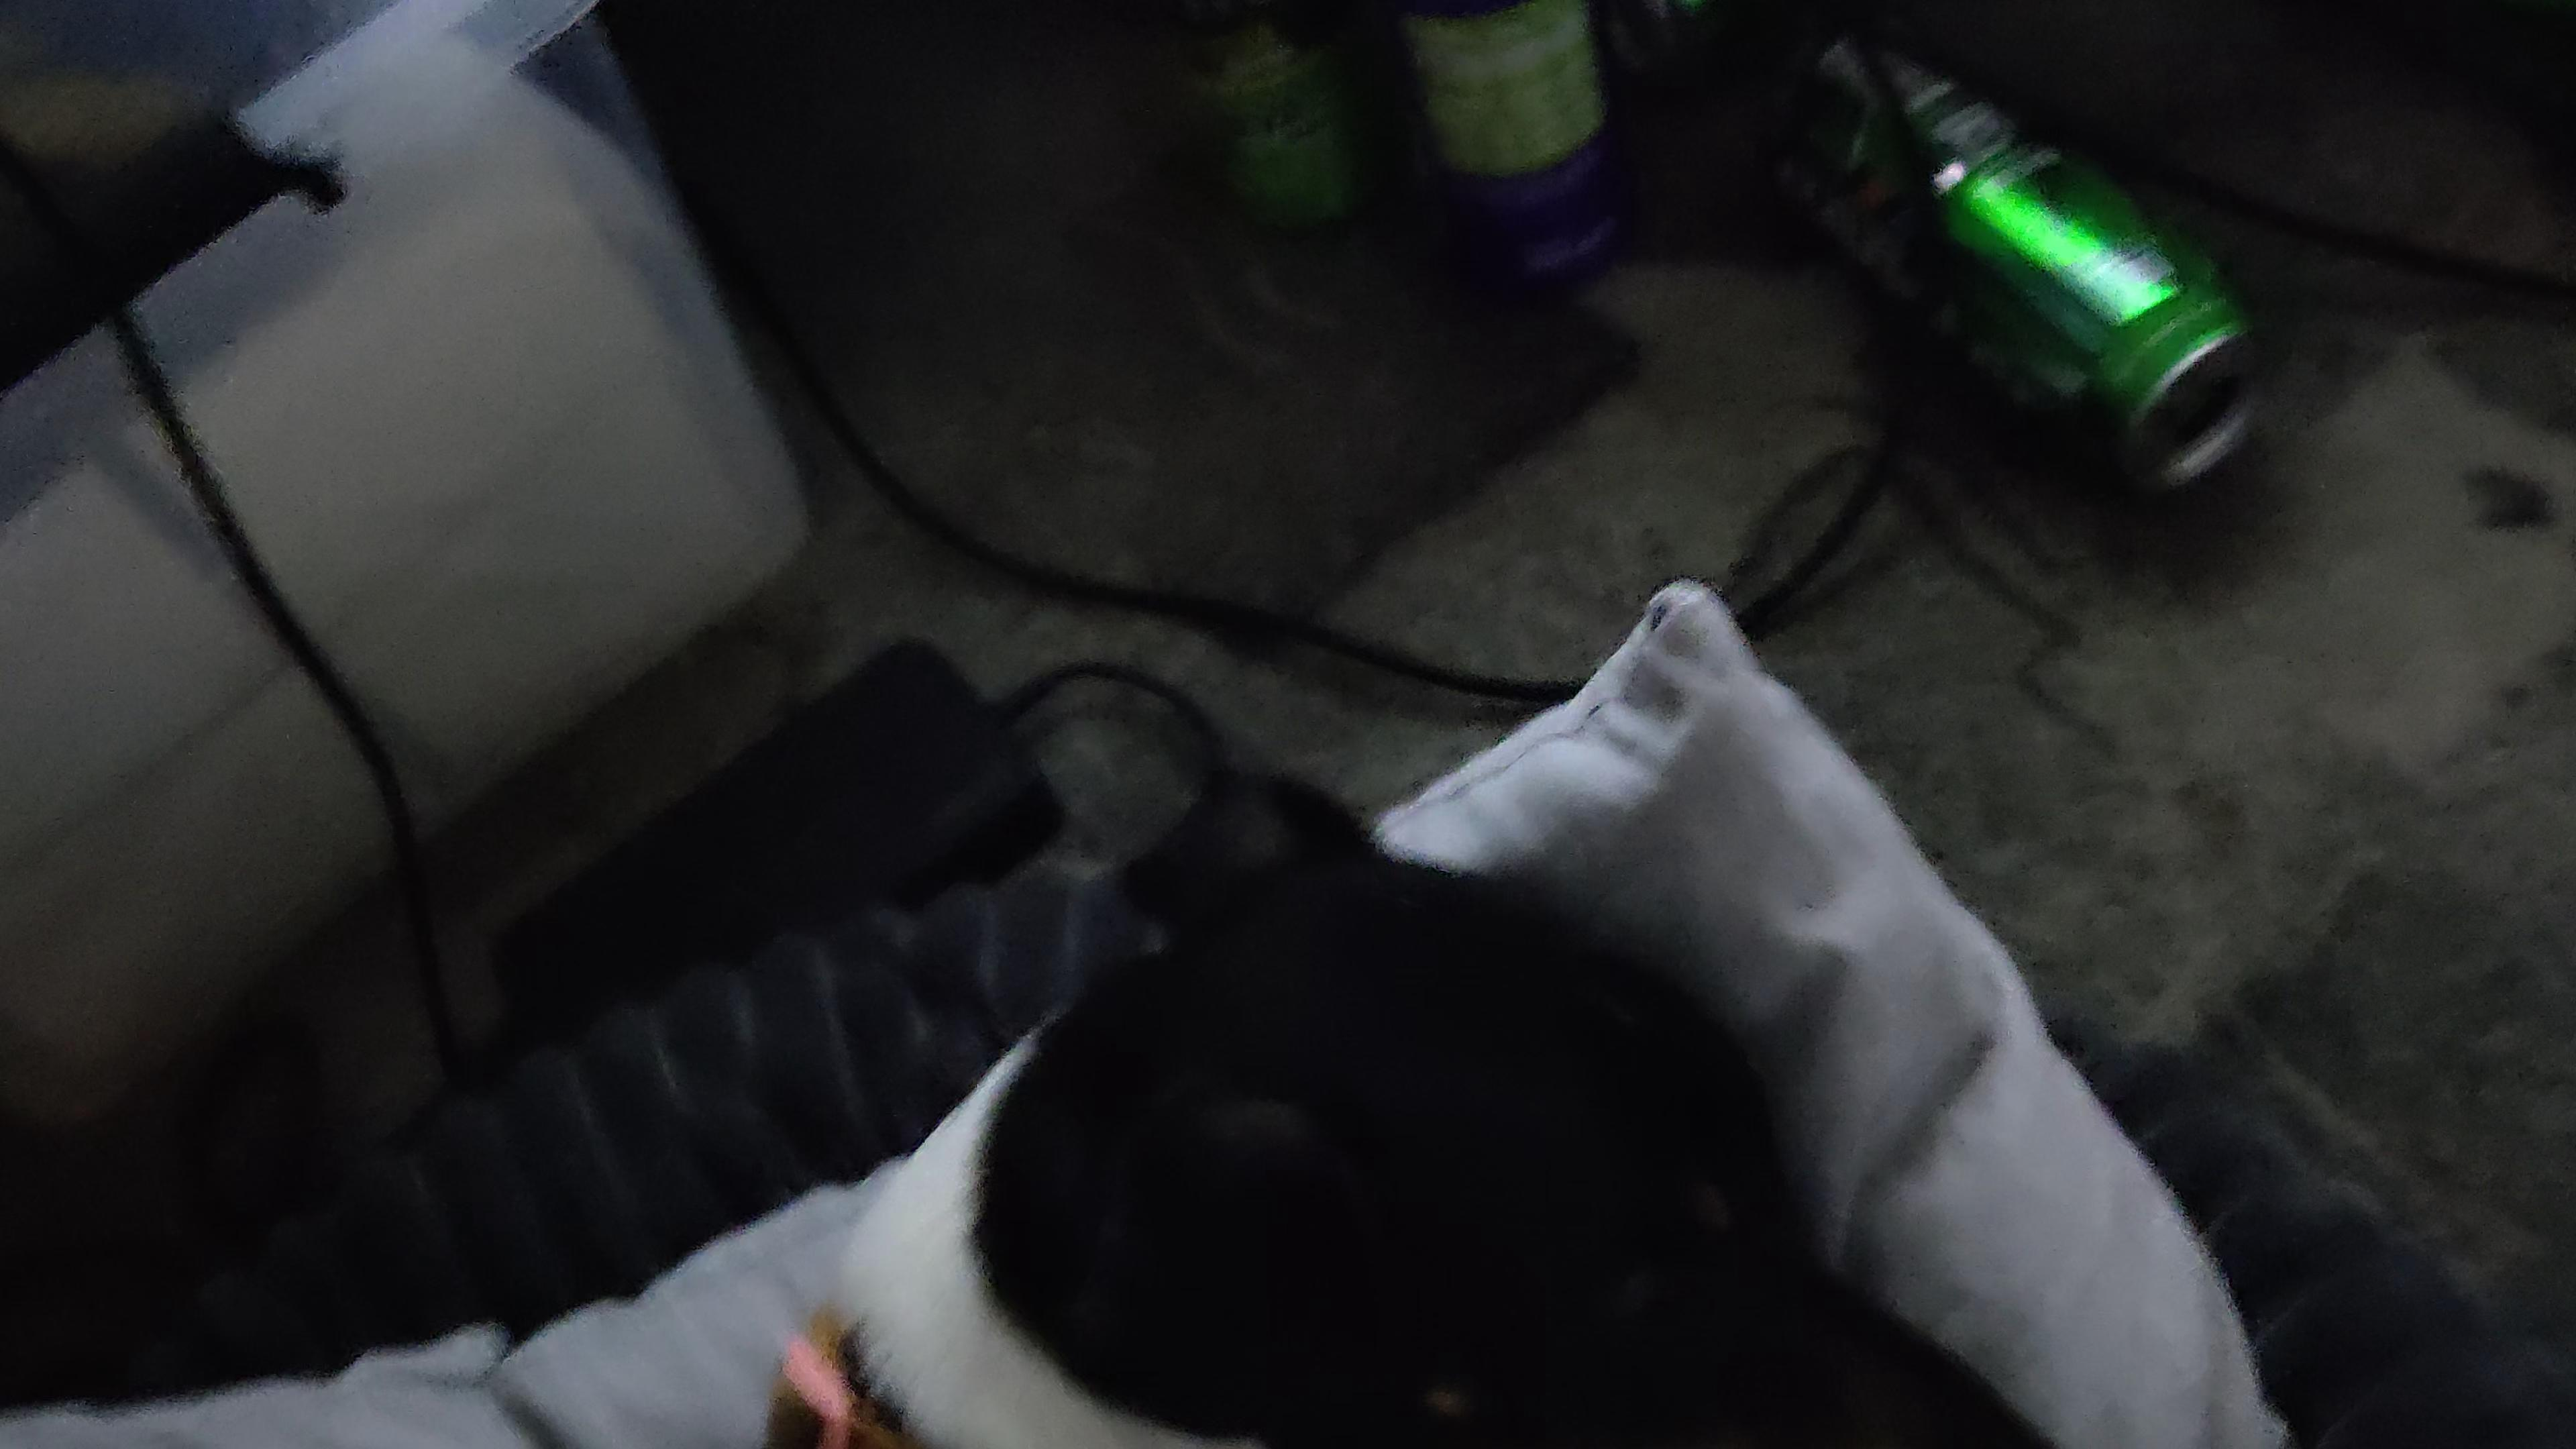Dog: (708, 741, 2120, 1449)
